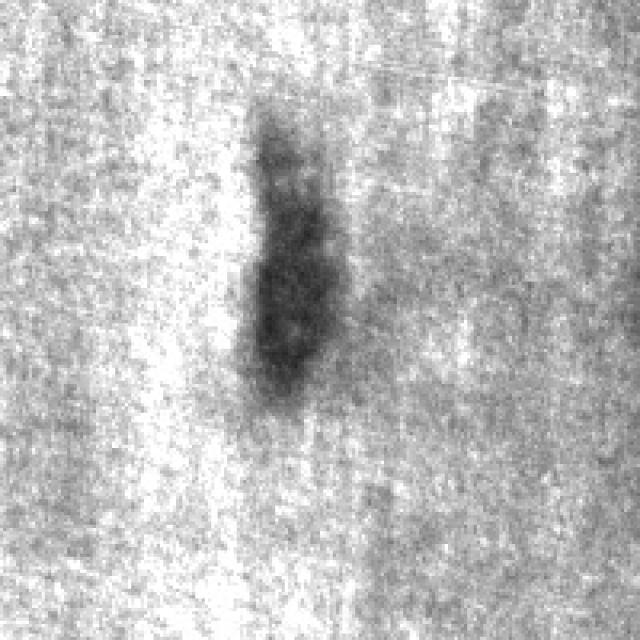patches: (253, 106, 358, 400)
